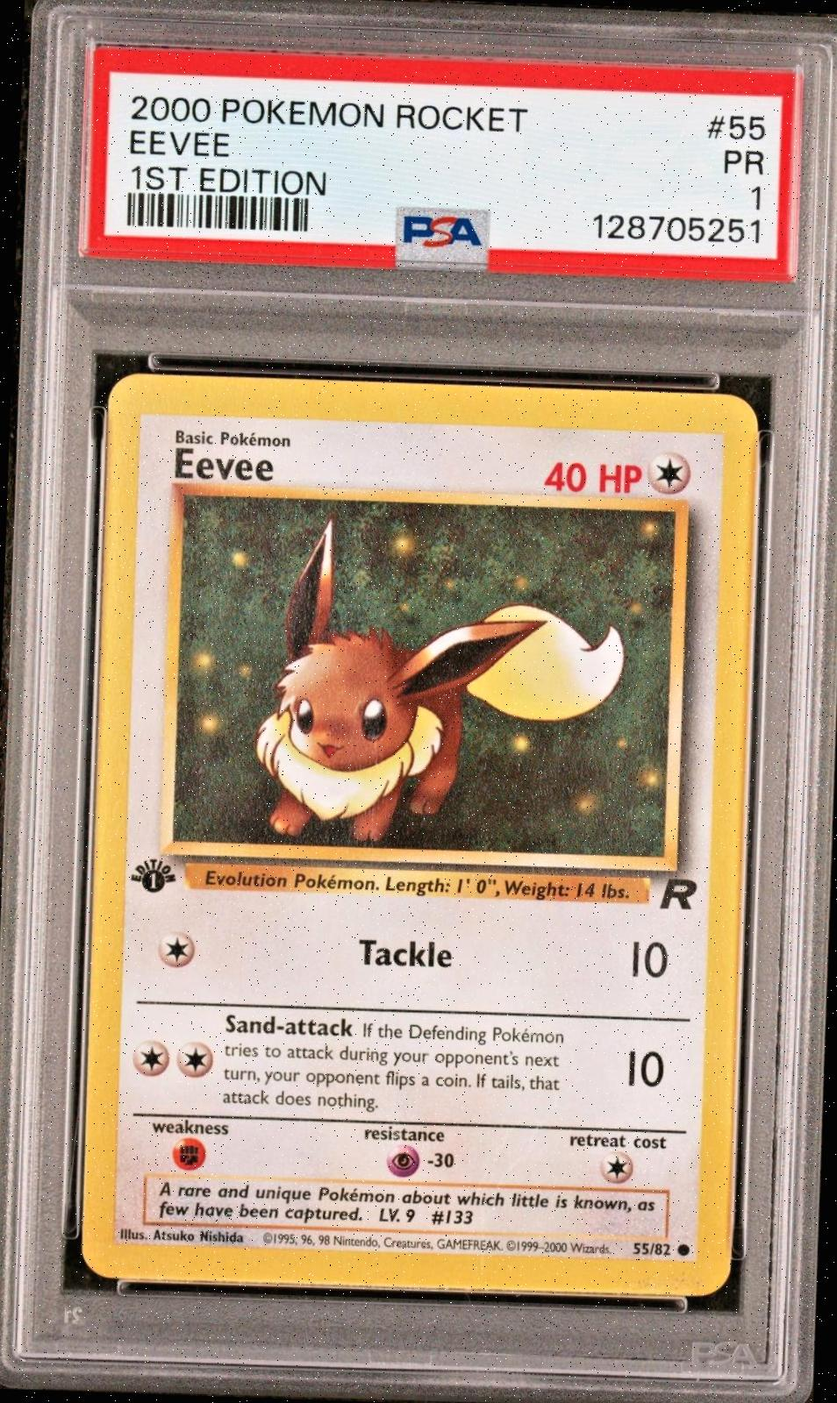card-2UtV: (80, 372, 759, 1298)
